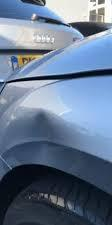dent: (4, 96, 91, 177)
